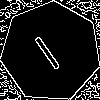I: (26, 27, 64, 72)
